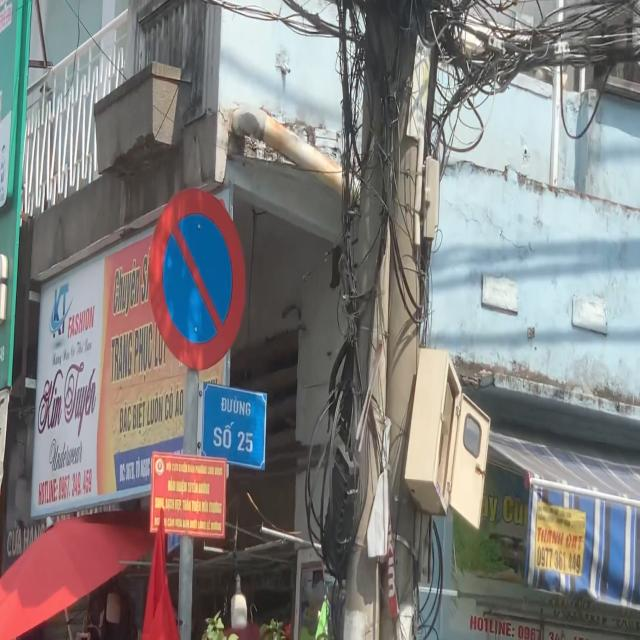Cam do: (148, 188, 247, 372)
